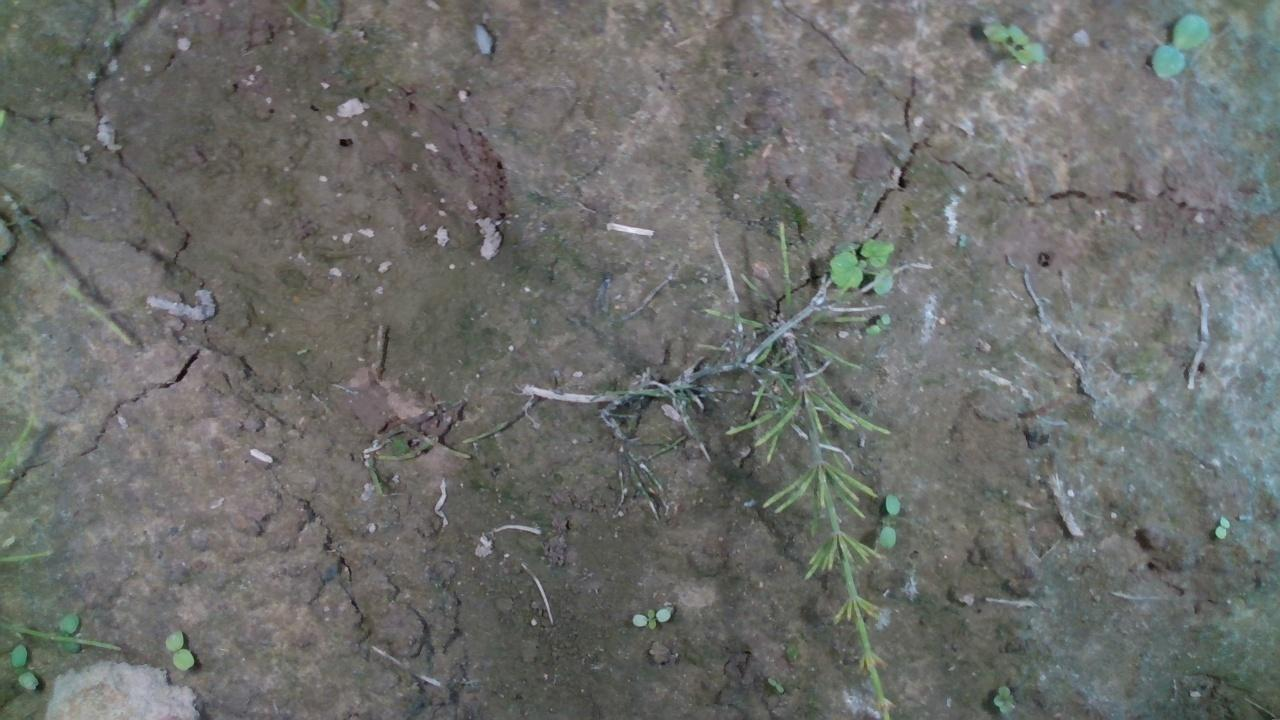weed: (1146, 12, 1208, 78), (9, 642, 39, 689), (877, 492, 901, 547), (164, 629, 195, 670), (629, 605, 670, 629), (990, 682, 1015, 714), (863, 312, 890, 334), (1212, 514, 1230, 541)
